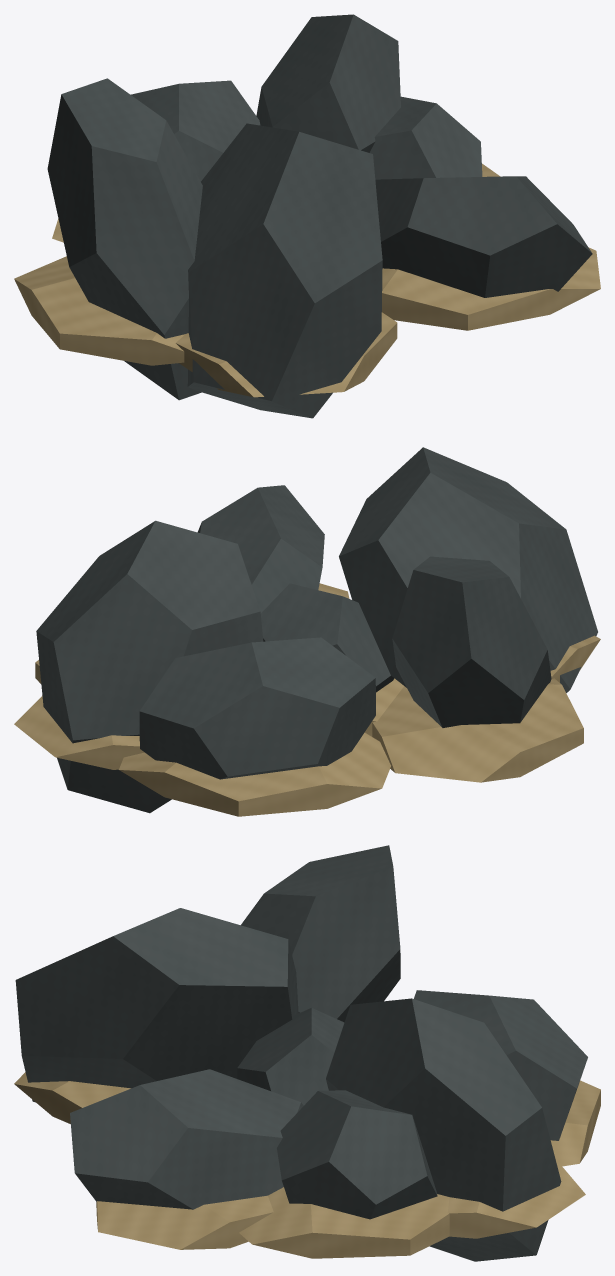
File: dune-rocks.glb
3 views of the same model, one above another, from view 1: azimuth 30°, elevation 25°; view 2: azimuth 150°, elevation 25°; view 3: azimuth 270°, elevation 25° (orthographic). The views are drawn at different scales.
Parts seen in each view (by area): view 1: basalt, sand; view 2: basalt, sand; view 3: basalt, sand.
Part boxes in pixels (left/top/right/bottom): basalt: left=47, top=14, right=592, bottom=418; sand: left=14, top=163, right=600, bottom=397; basalt: left=36, top=447, right=597, bottom=813; sand: left=14, top=583, right=600, bottom=816; basalt: left=15, top=845, right=587, bottom=1261; sand: left=14, top=1072, right=600, bottom=1258.
Bounding box in the file's own units: 5.85 × 3.14 × 5.9.
2 materials, 2 textured.
